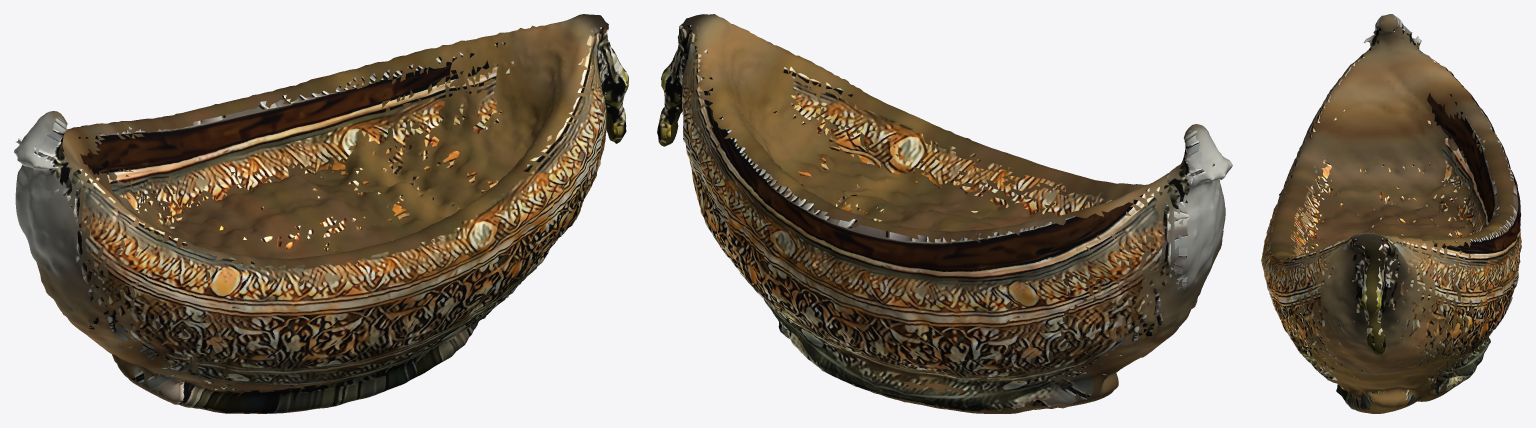
Rendered from kfl-2228.glb.
3 views of the same model, side by side, from view 1: azimuth 30°, elevation 25°; view 2: azimuth 150°, elevation 25°; view 3: azimuth 270°, elevation 25° (orthographic). The views are drawn at different scales.
Visible parts, largest first — view 1: kfl-2228; view 2: kfl-2228; view 3: kfl-2228.
Part boxes in pixels (x1,y1,x2,y2): kfl-2228: [14, 14, 628, 413]; kfl-2228: [657, 14, 1232, 413]; kfl-2228: [1261, 14, 1521, 413].
Bounding box in the file's own units: 0.9898 × 0.5341 × 0.4761.
4 materials, 4 textured.
